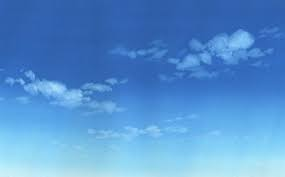sky: (3, 2, 285, 176)
